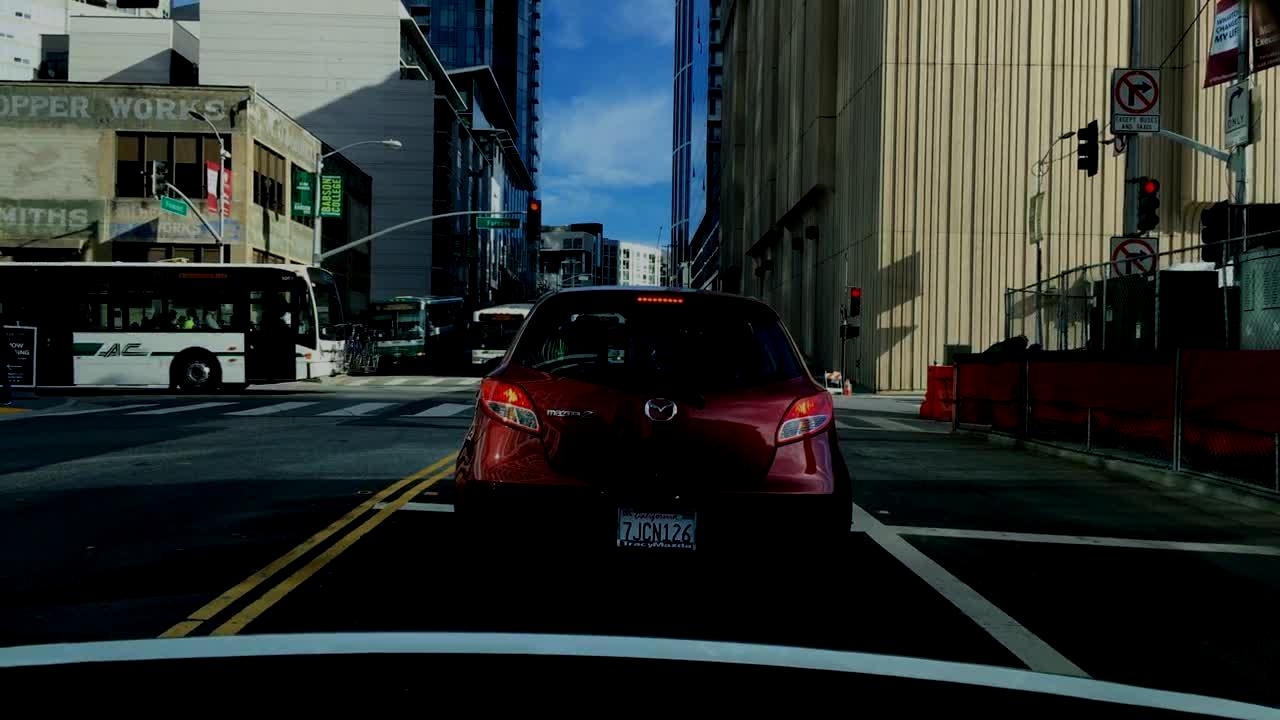Mazda: (641, 391, 685, 430)
